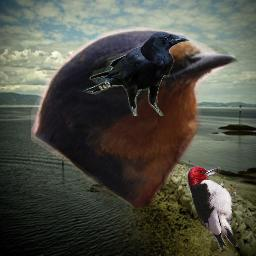Crow: (83, 31, 190, 116)
Swallow: (31, 25, 245, 210)
Woodpecker: (187, 166, 239, 250)
